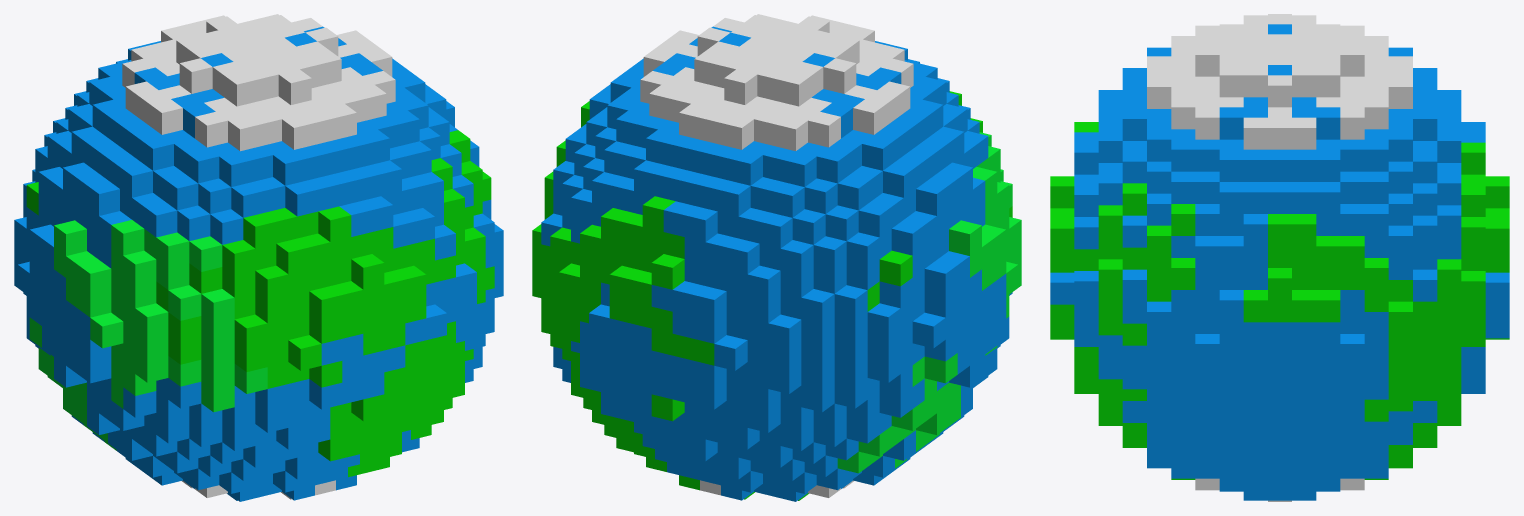
File: Earth.obj
The picture shows the model from 3 angles, left to right: view 1: azimuth 30°, elevation 25°; view 2: azimuth 150°, elevation 25°; view 3: azimuth 270°, elevation 25°; orthographic projection.
Size of the model in its own units: 19 by 19 by 19.
1 material, 1 textured.
